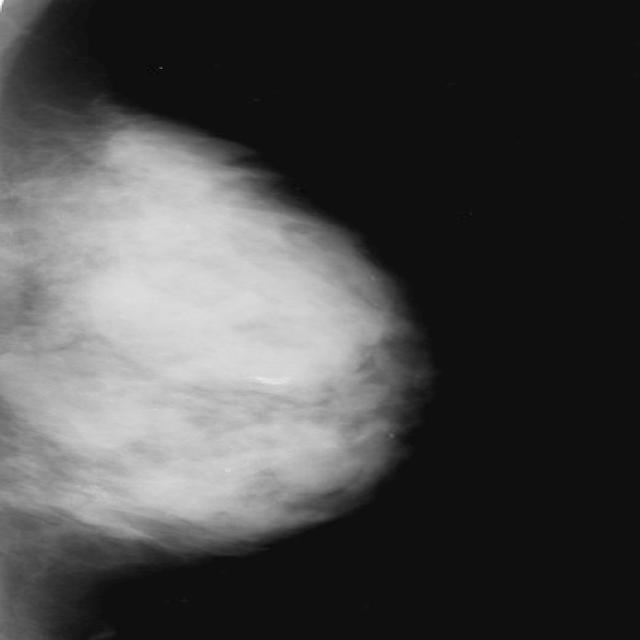tumour: (275, 426, 358, 496)
